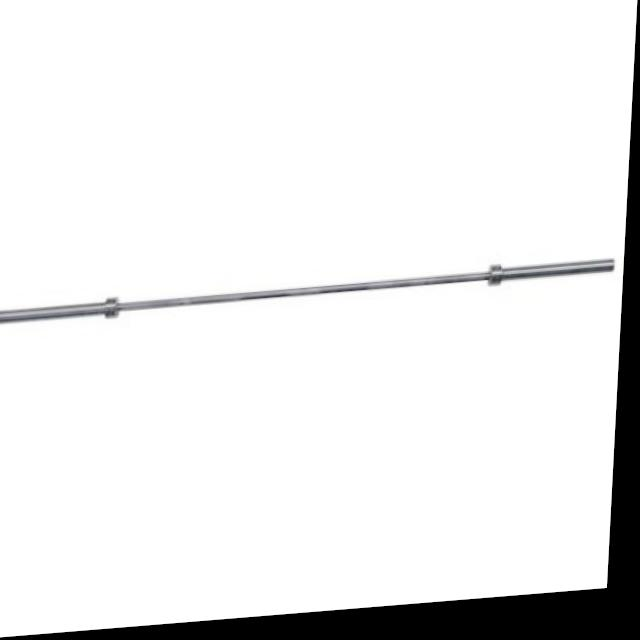barbell: (1, 289, 124, 342)
